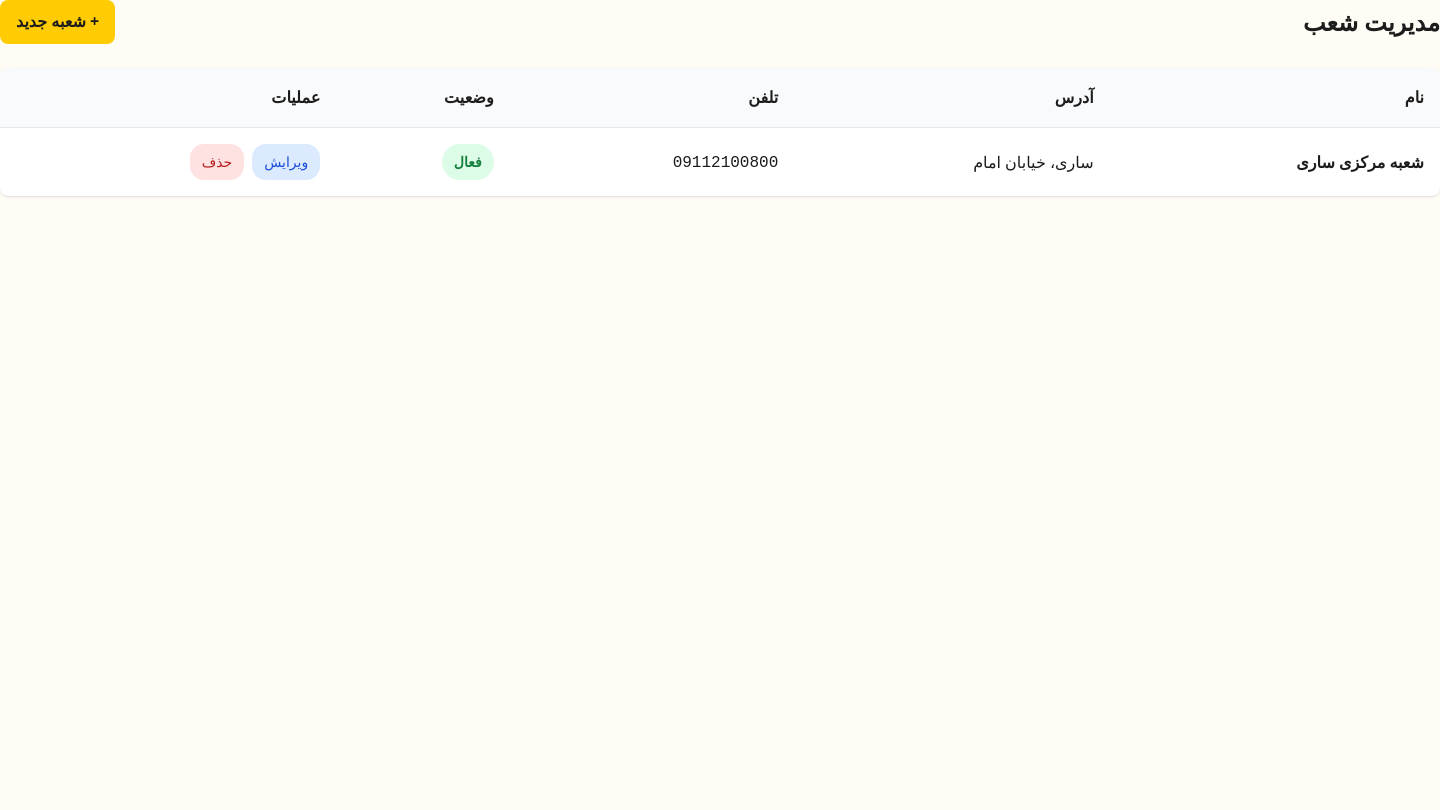
Test: skips deletion when the confirm dialog is cancelled
The width and height of the screenshot is (1440, 810).
Step 1. Click the button "حذف" → [217, 162], box 190,144 -> 244,180
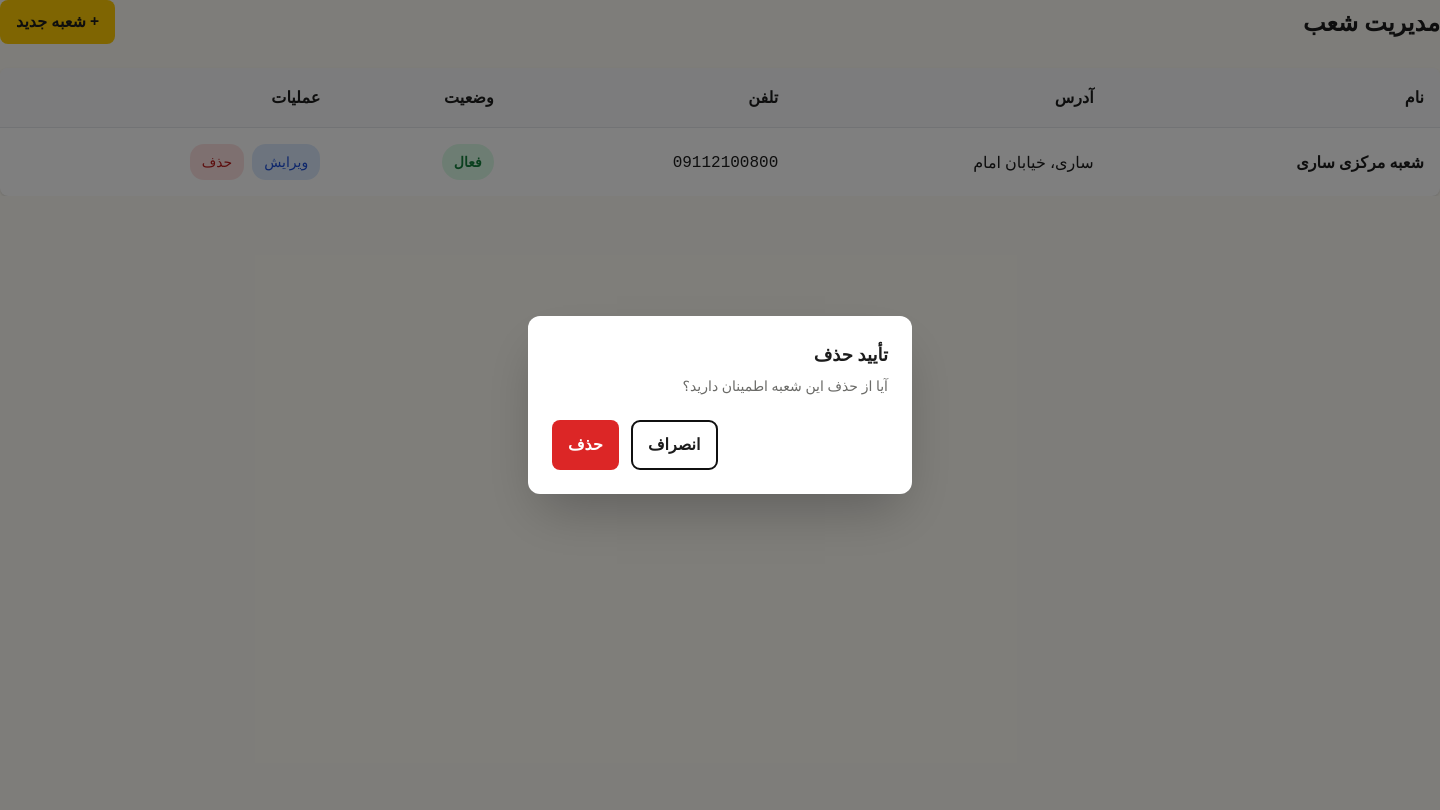
Step 2. Click the button "انصراف" → [674, 445], box 631,420 -> 718,470
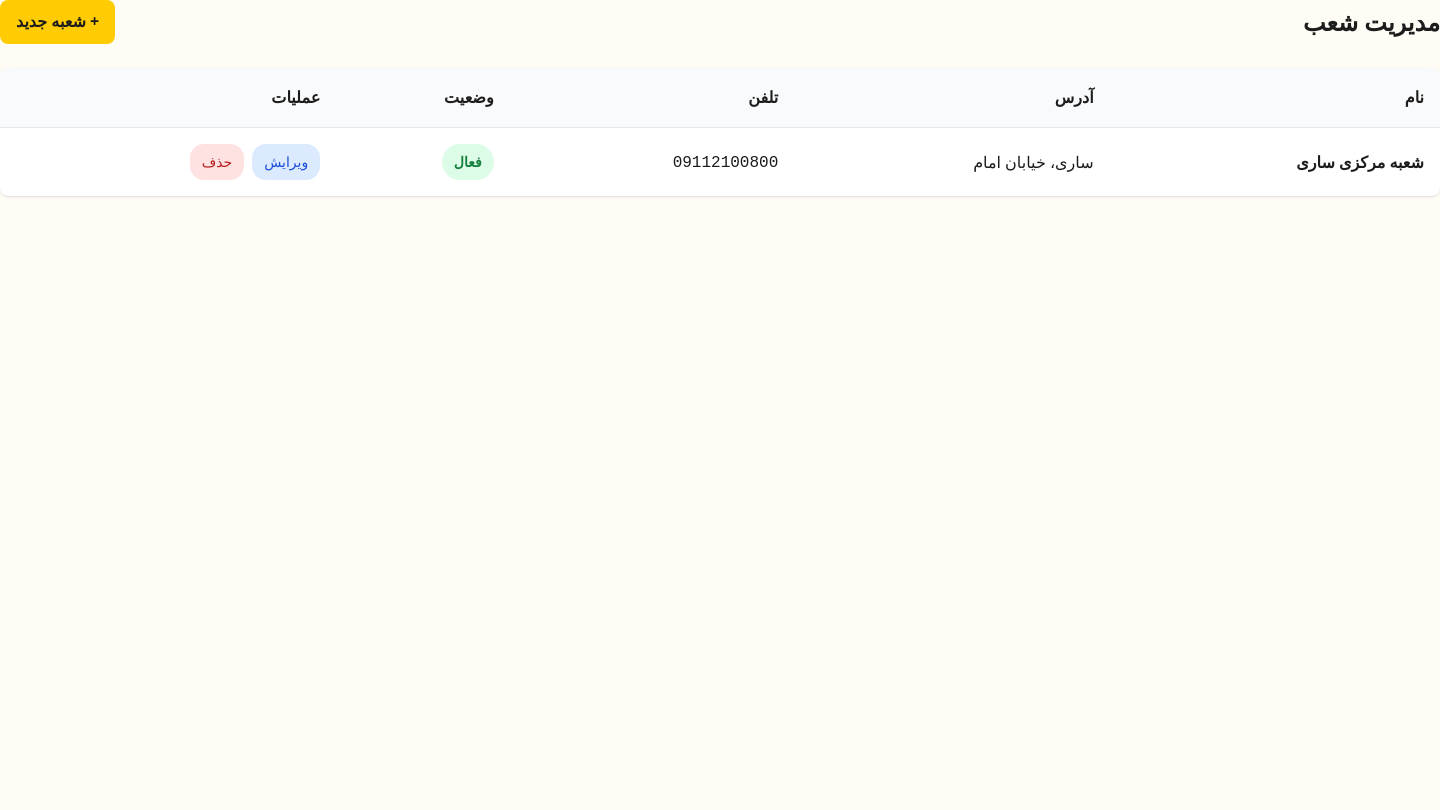
Expected: the dialog is gone
